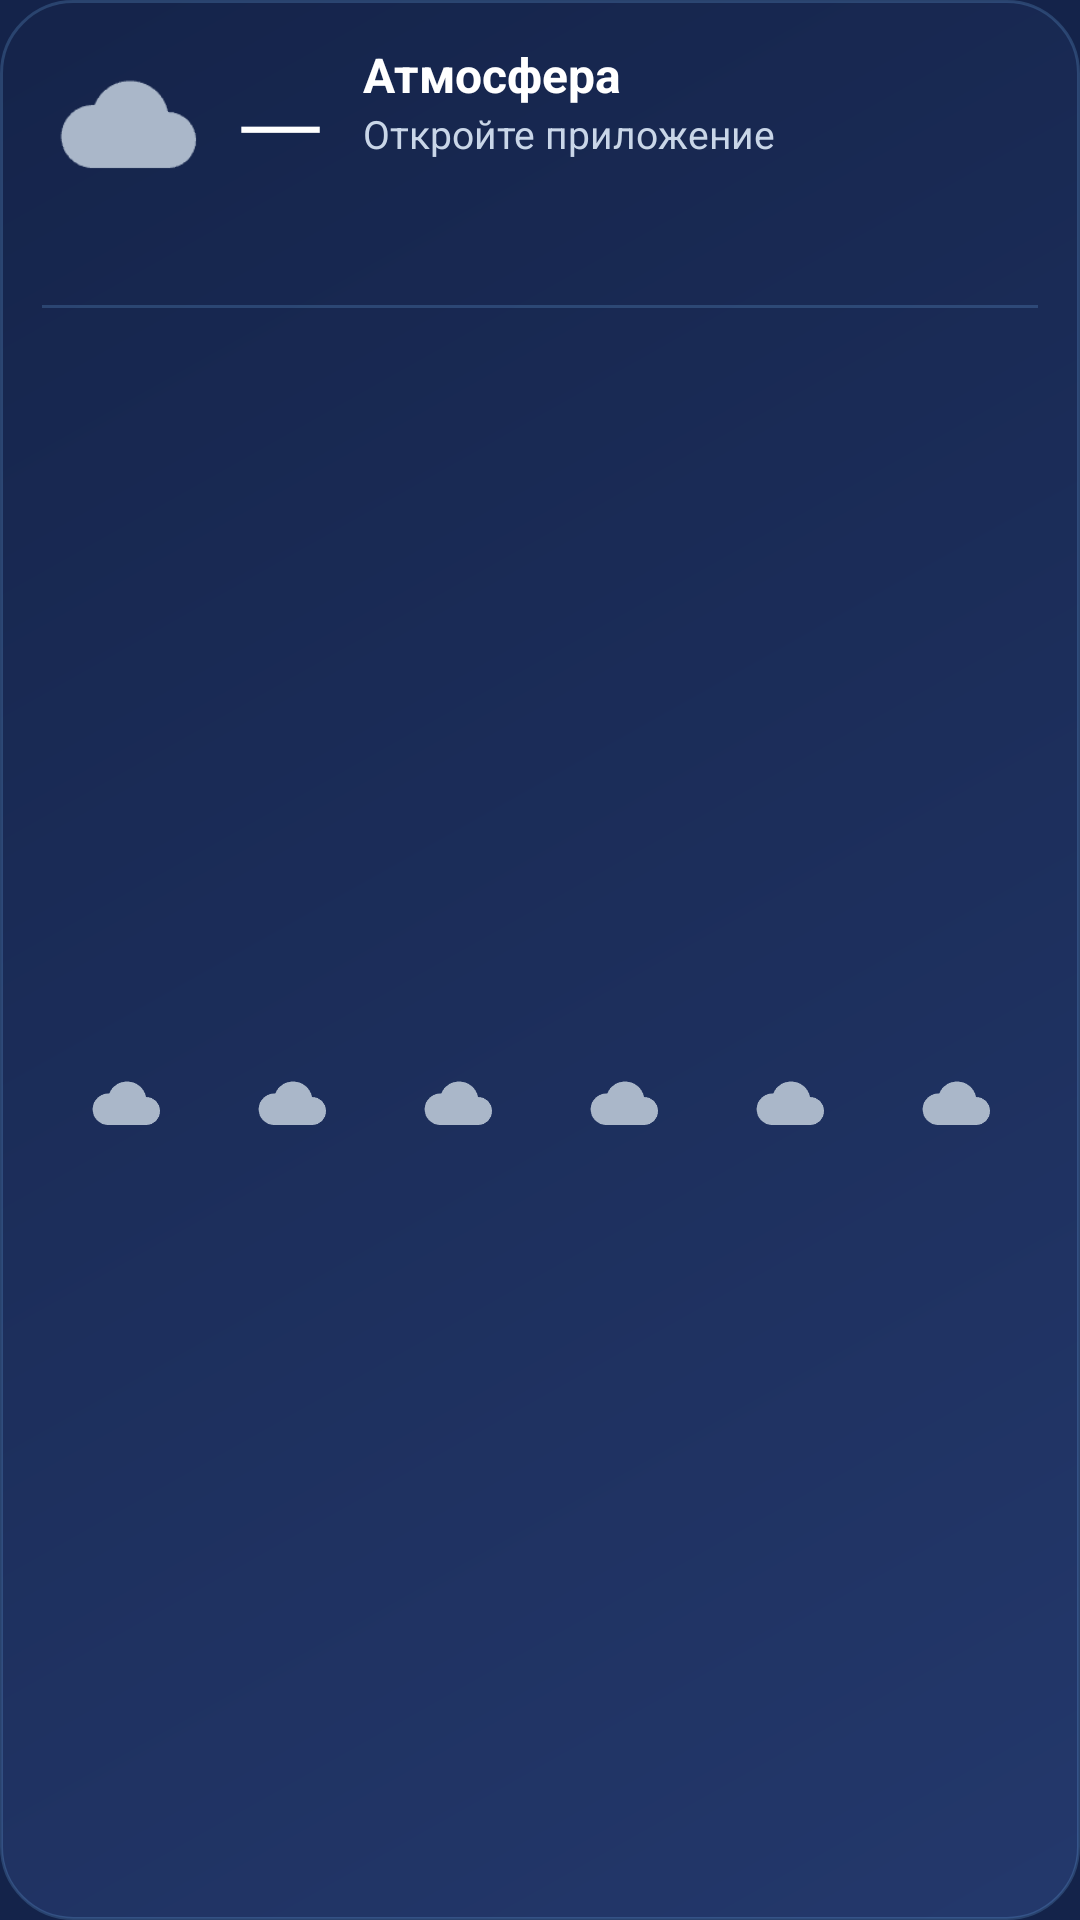

Screen size 1080px×1920px. Icon name, then its box in pixels as [x1=x1, y1=y1, x2=x2, y2=y2]:
Погода: [x1=60, y1=80, x2=196, y2=168]
